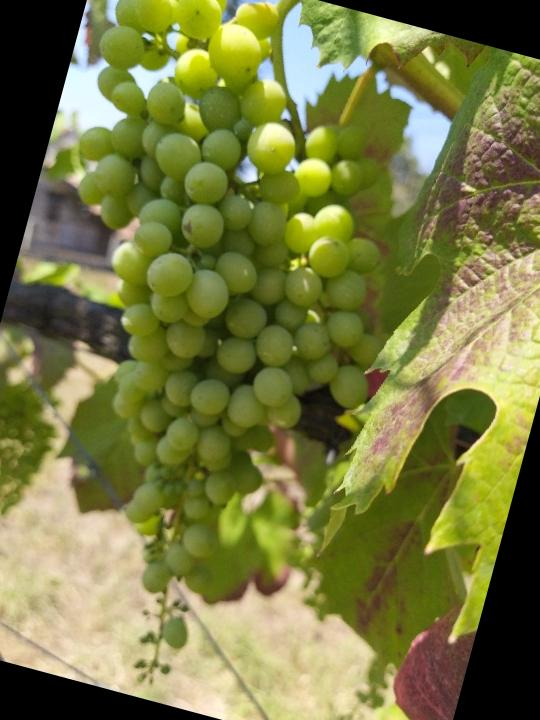grape: (0, 0, 460, 720)
